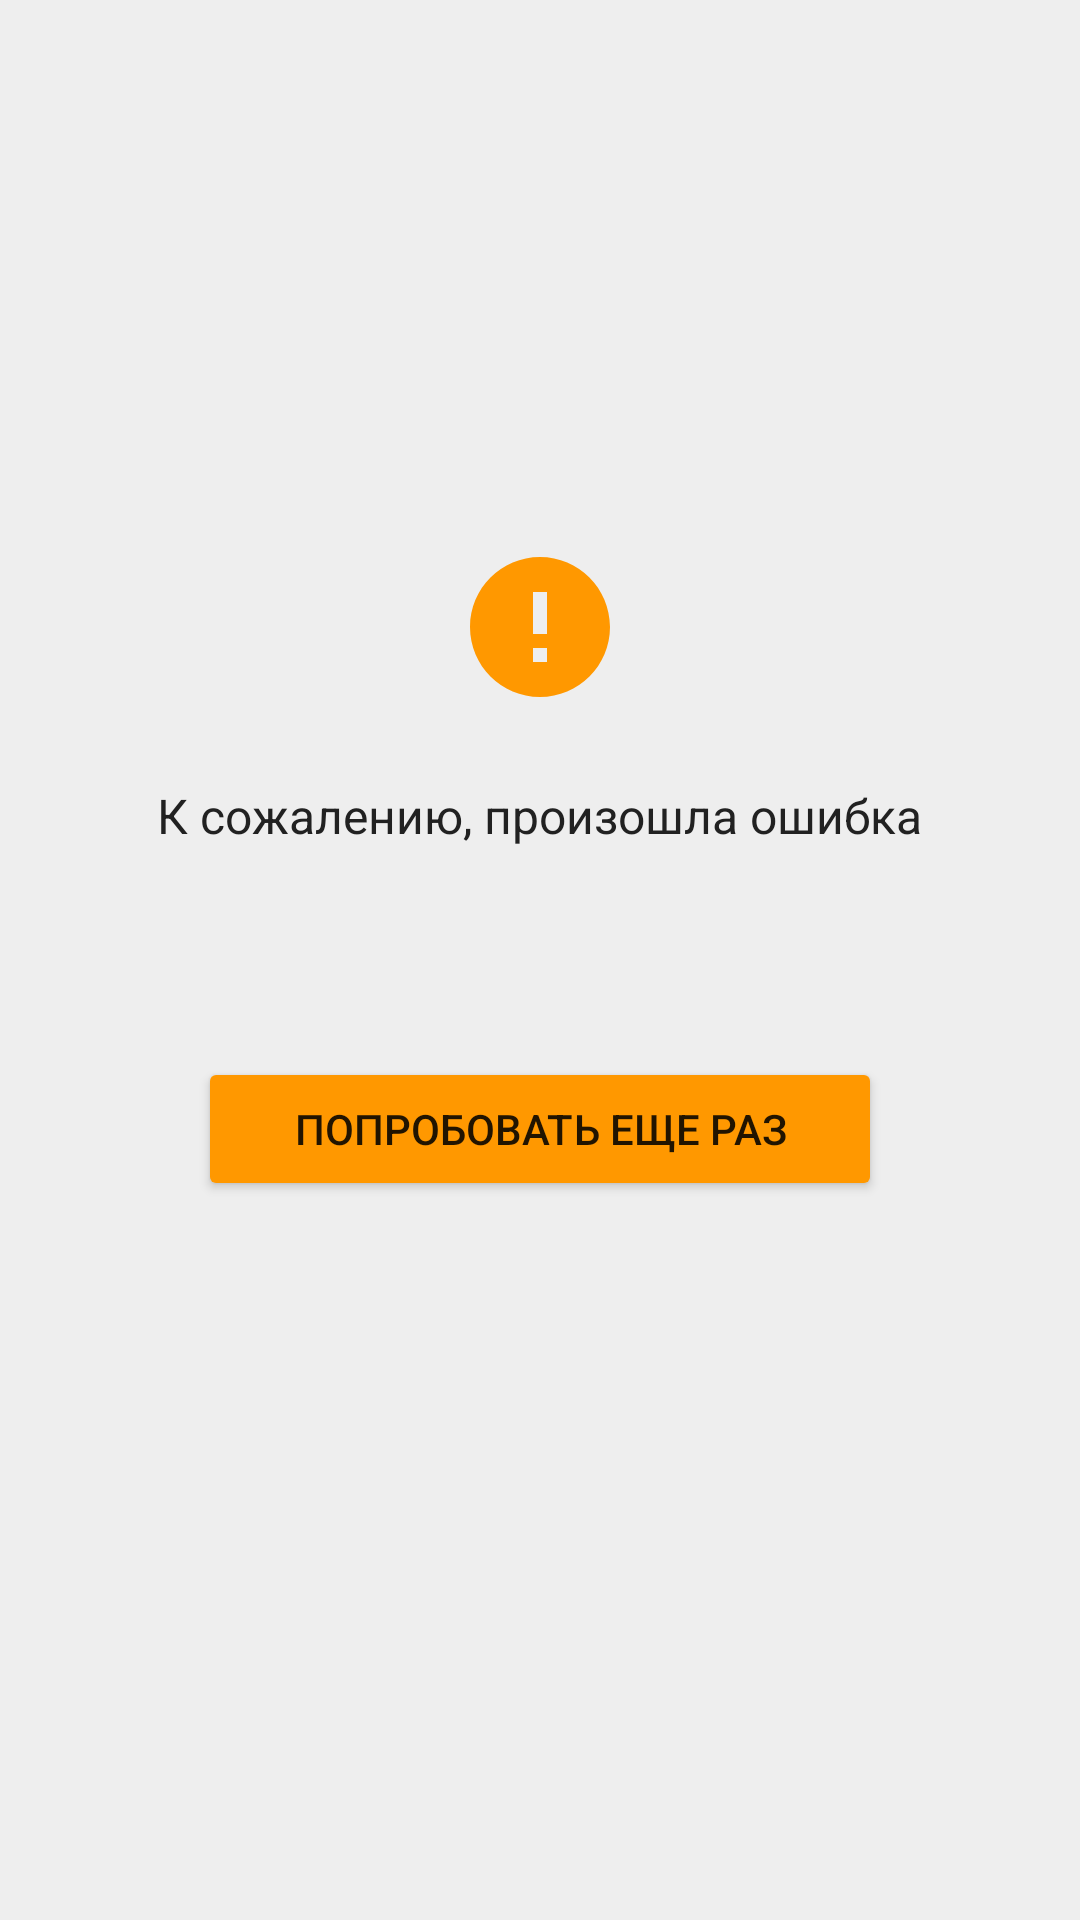

Named icons in this screenshot (1080w x 1920h) and their bounding boxes, (x1=x1, y1=y1, x2=x2, y2=y2):
error: (x1=470, y1=557, x2=610, y2=697)
